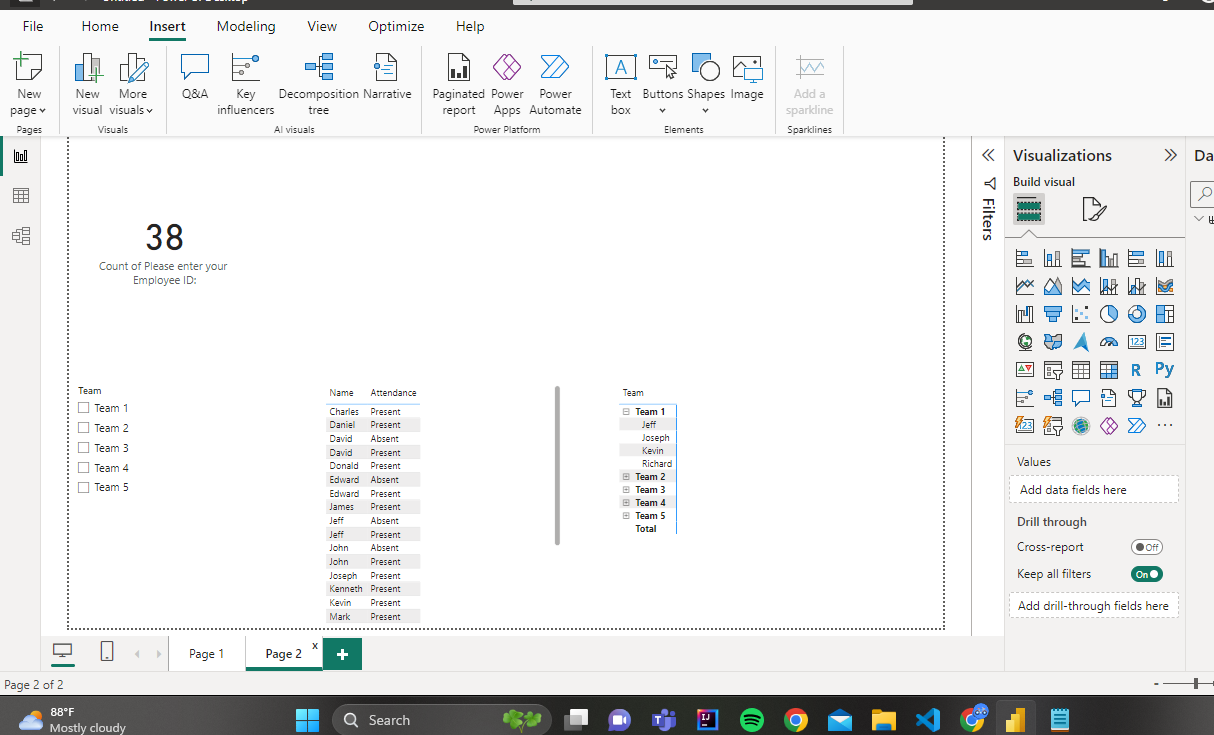

The dashboard page shown, as its layout file describes it:
{"tool":"powerbi","page":{"name":"Page 2","canvas":[1280,720],"ordinal":1},"visuals":[{"type":"card","fields":{"Values":["Data.Please enter your Employee ID:"]},"box":[0,0,279.5,302.9],"z":0},{"type":"slicer","fields":{"Values":["Data.Team"]},"box":[0,360,348.3,360],"z":1},{"type":"tableEx","fields":{"Values":["Data.Name","Data.Attendance"]},"box":[370.2,360,354.1,360],"z":2},{"type":"pivotTable","fields":{"Rows":["Data.Team","Data.Name"]},"box":[800.5,360,320.5,360],"z":3}]}

Visuals, with their boxes on the page's 1280x720 design canvas (x1, y1, x2, y2). These are canvas units, not pixel positions in the 1214x735 screenshot, which may show the page scaled, cropped or inside an application window:
card - Data.Please enter your Employee ID:: <bbox>0, 0, 280, 303</bbox>
slicer - Data.Team: <bbox>0, 360, 348, 720</bbox>
tableEx - Data.Name x Data.Attendance: <bbox>370, 360, 724, 720</bbox>
pivotTable - Data.Team x Data.Name: <bbox>800, 360, 1121, 720</bbox>
